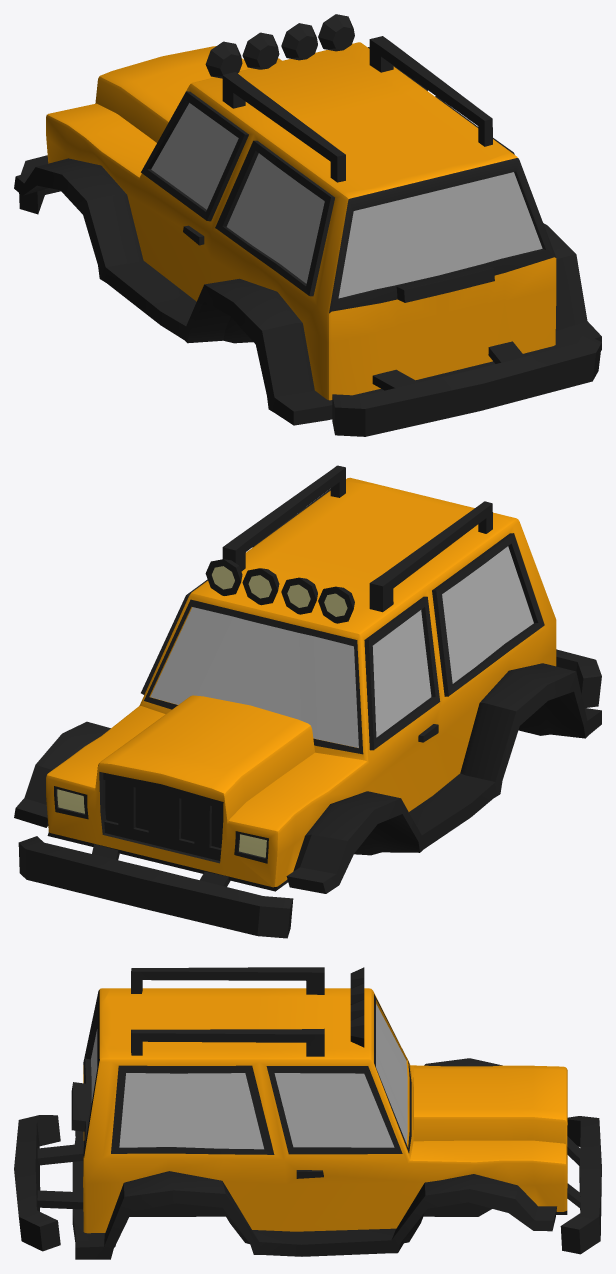
The model's file is jeep_body.glb.
The picture shows the model from 3 angles, top to bottom: view 1: azimuth 30°, elevation 25°; view 2: azimuth 150°, elevation 25°; view 3: azimuth 270°, elevation 25°; orthographic projection. The views are drawn at different scales.
Visible parts, largest first — view 1: jeep_body; view 2: jeep_body; view 3: jeep_body.
Part boxes in pixels (x1,y1,x2,y2): jeep_body: [14, 14, 601, 436]; jeep_body: [14, 465, 601, 938]; jeep_body: [14, 967, 601, 1259].
Bounding box in the file's own units: 1.72 × 1.24 × 3.19.
1 material, 1 textured.
